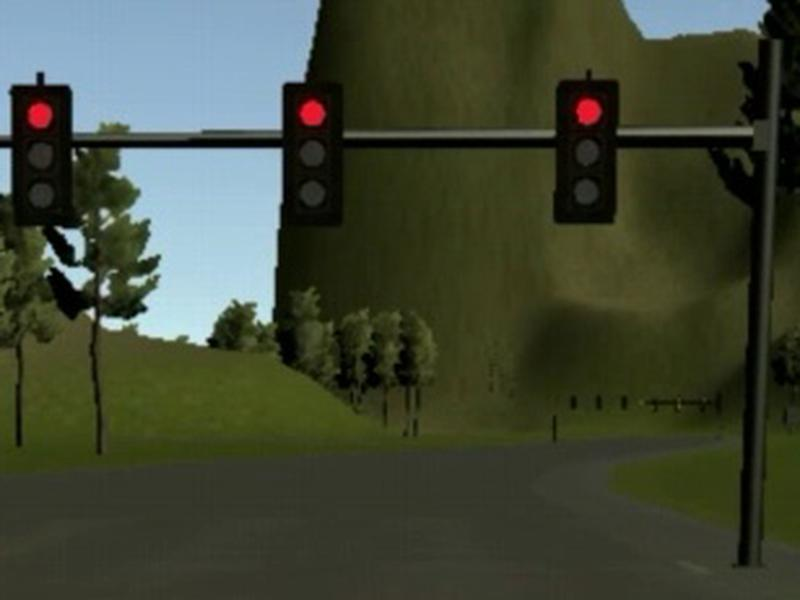Red: (554, 78, 622, 224), (12, 86, 72, 224), (284, 85, 342, 226)
